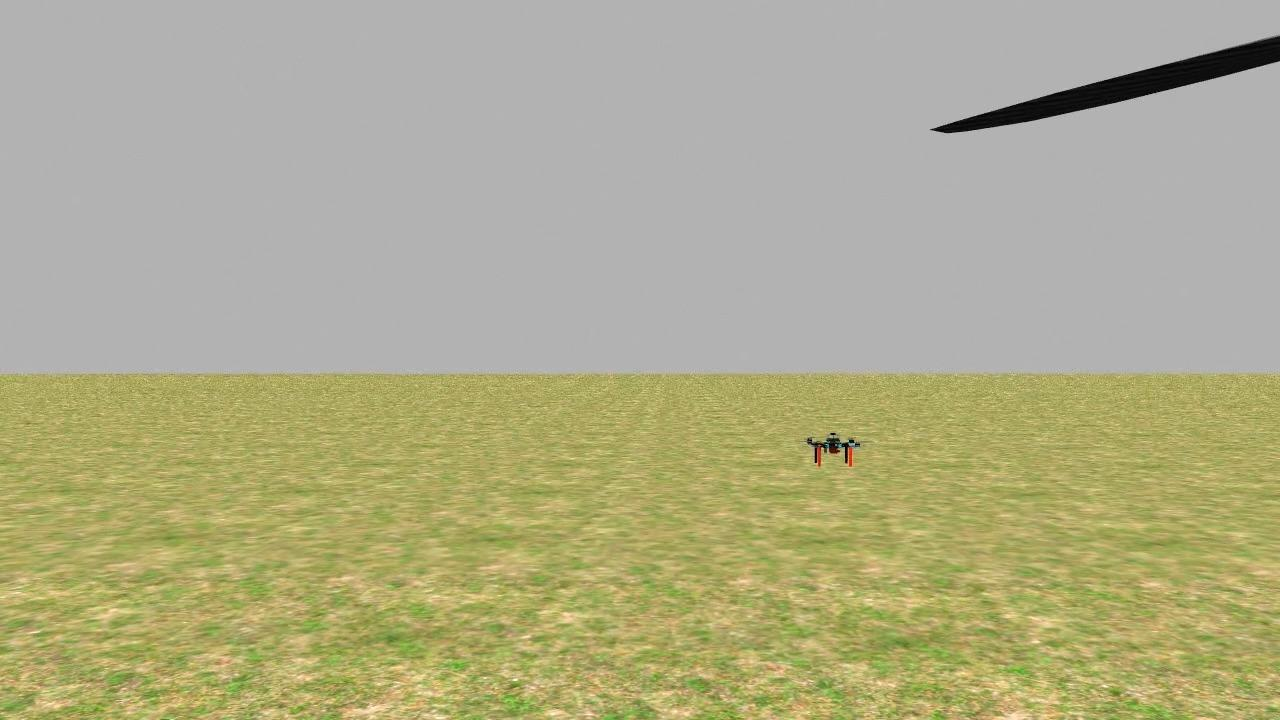UAV: (795, 410, 869, 484)
